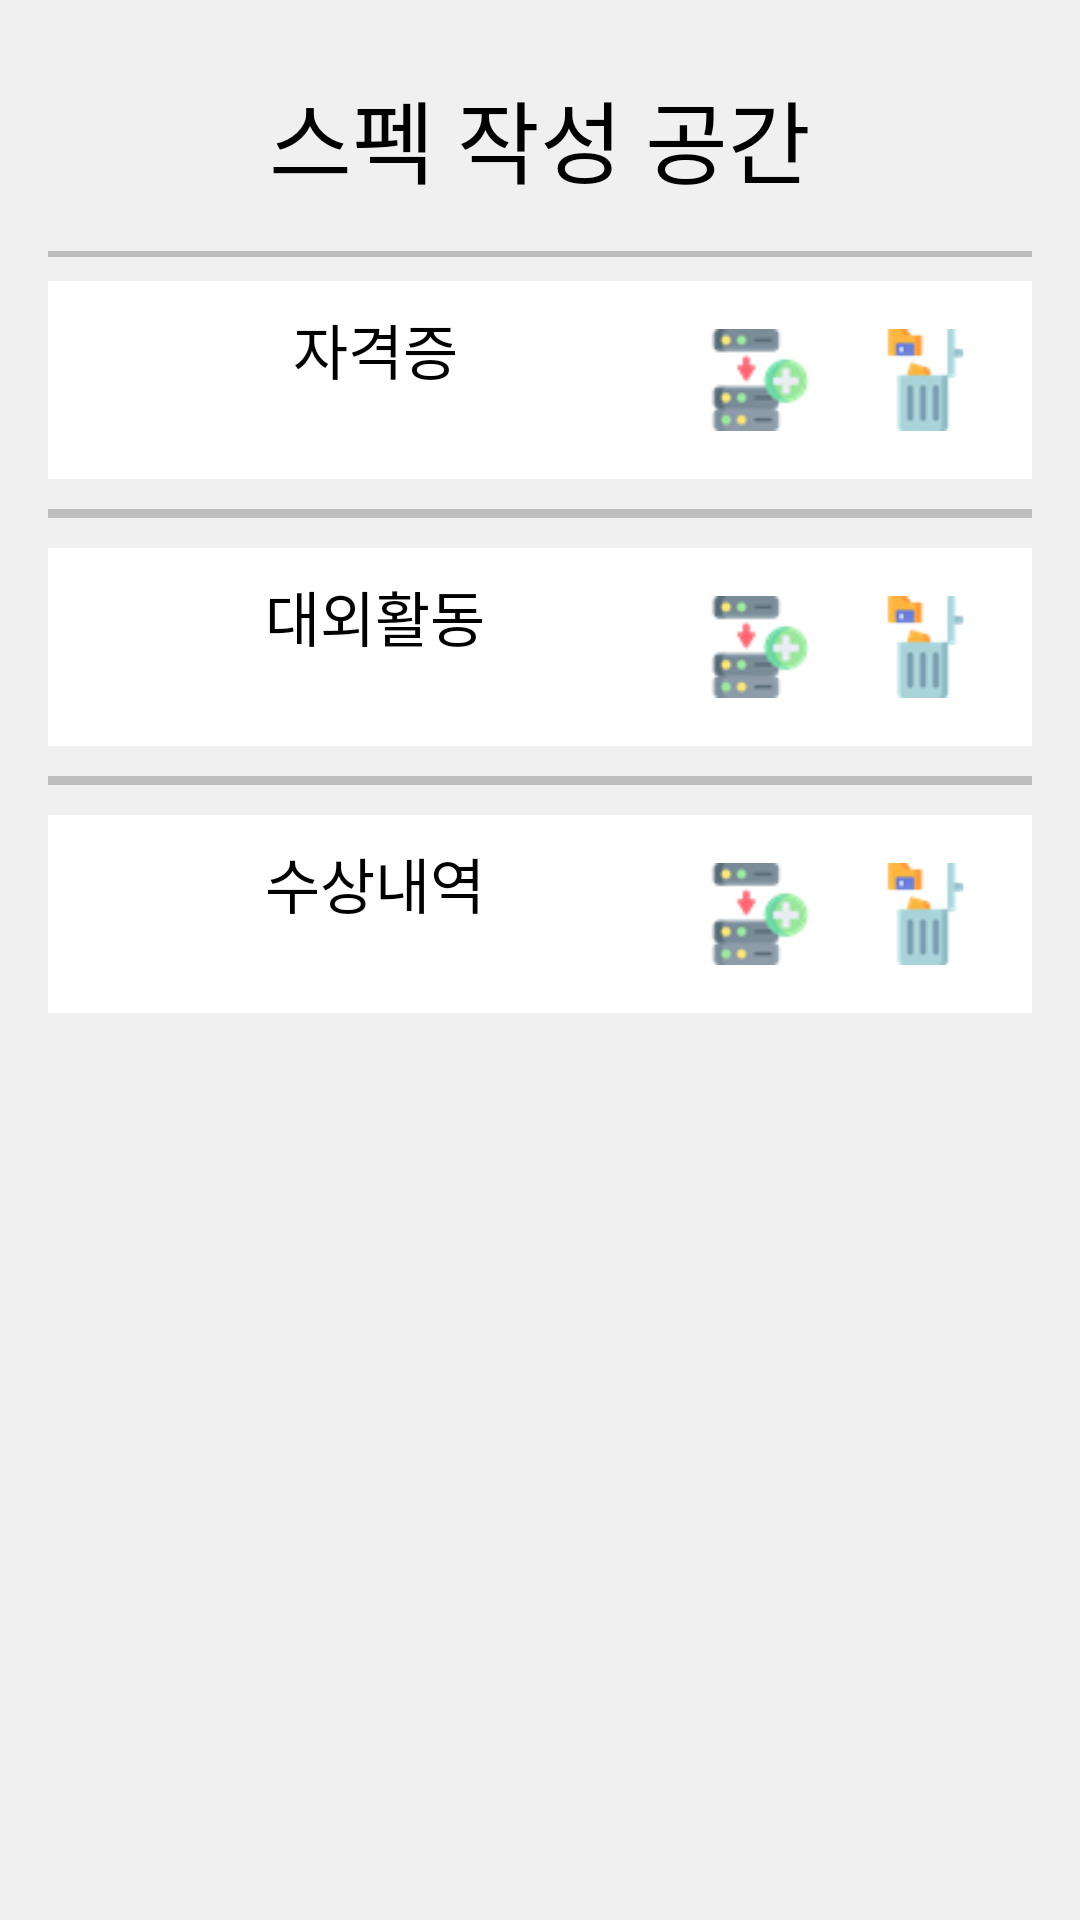

Screen size 1080 x 1920. Icon name, then its box in pixels as (x1, y1, x2, y2):
spec create: (712, 329, 809, 431), (712, 596, 809, 698), (712, 863, 808, 965)
spec delete: (887, 329, 964, 431), (887, 596, 964, 698), (887, 863, 964, 965)
